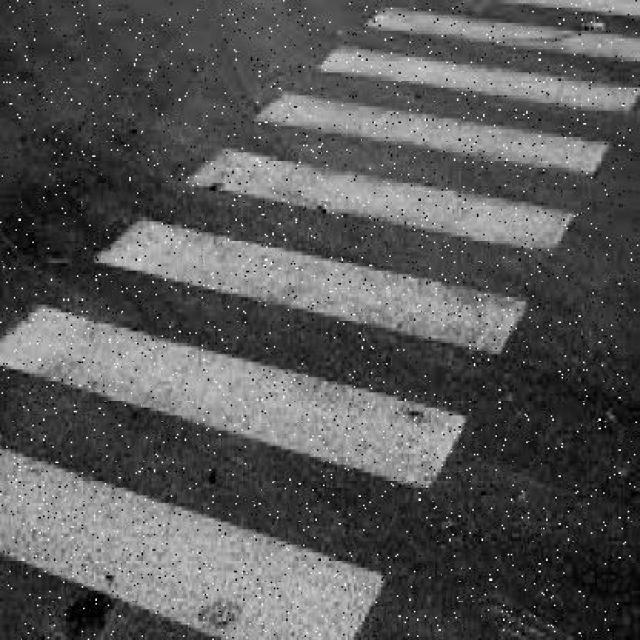crosswalk: (2, 44, 639, 458)
